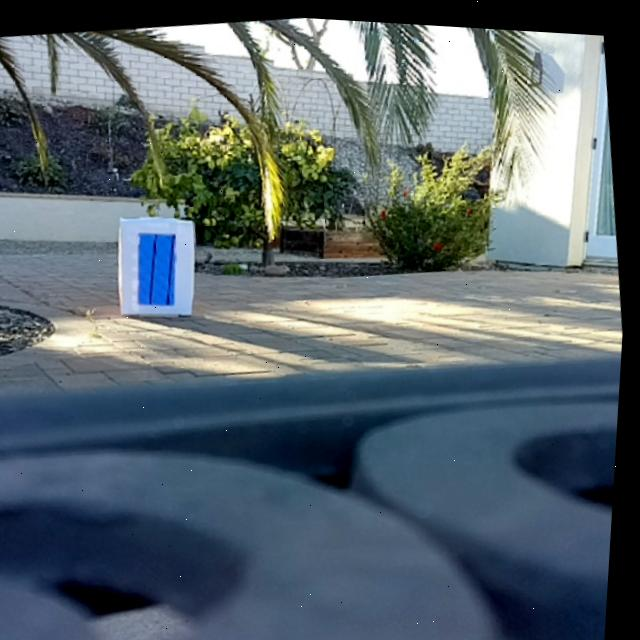led: (134, 227, 185, 306)
